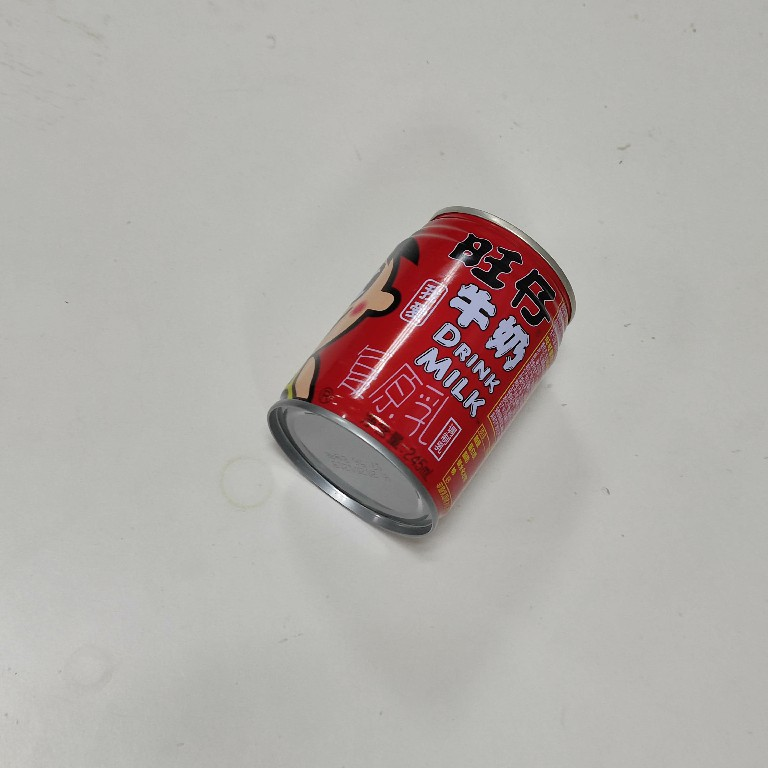can: (258, 203, 584, 543)
